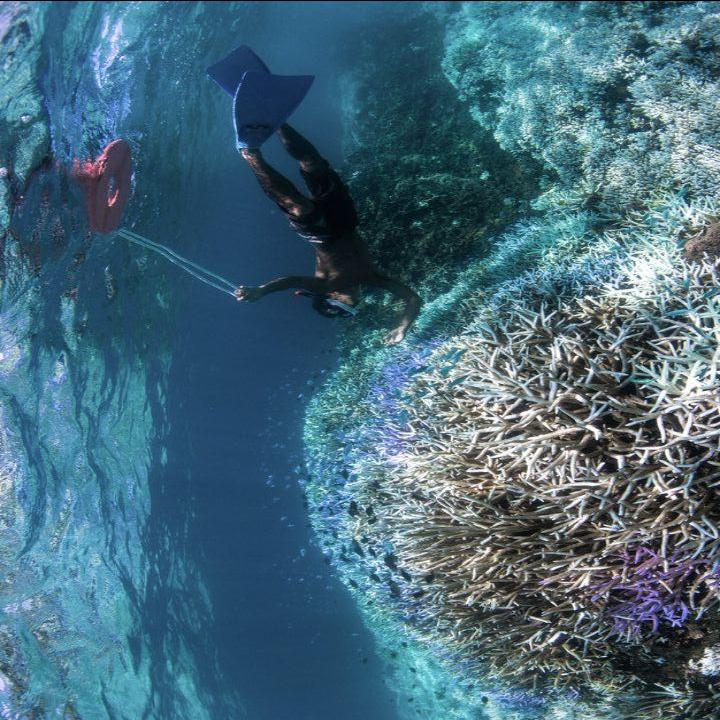Bleached disease: (387, 28, 708, 598)
